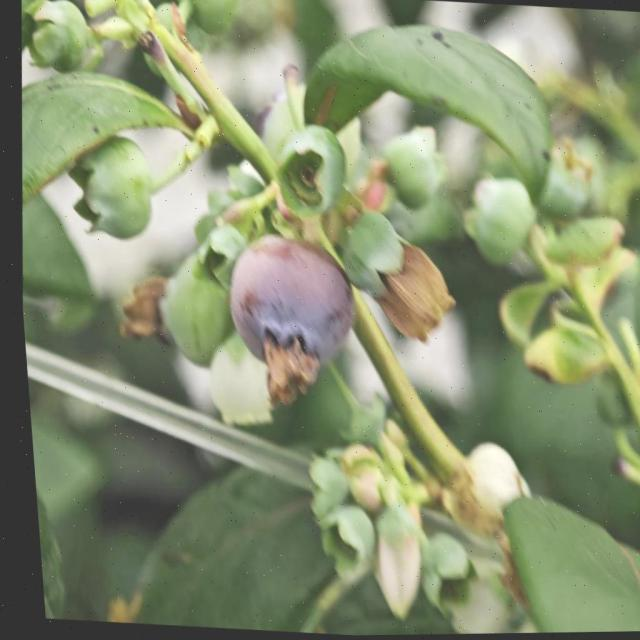Semi-RipeBlueBerry: (214, 232, 357, 378)
